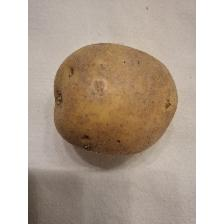Kartoffel: (53, 40, 181, 158)
